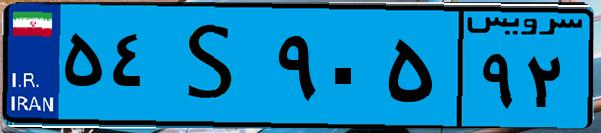0: (330, 28, 385, 110)
2: (525, 38, 570, 115)
4: (110, 28, 158, 98)
5: (385, 28, 445, 110), (57, 26, 110, 100)
9: (270, 28, 330, 110), (475, 38, 525, 113)
S: (158, 12, 270, 120)
